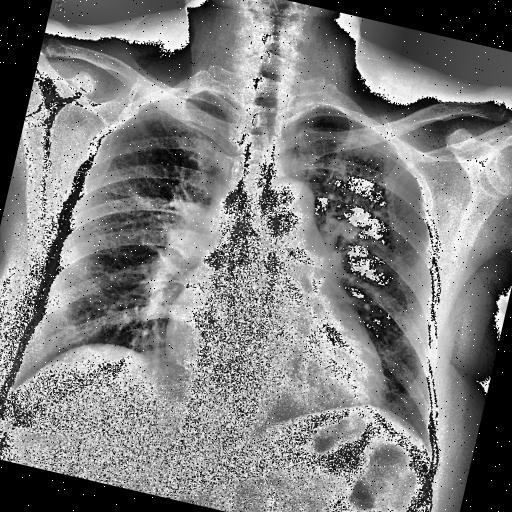0- Aortic enlargement: (250, 172, 322, 238)
3- Cardiomegaly: (148, 288, 397, 438), (156, 287, 394, 417), (153, 312, 390, 424)
